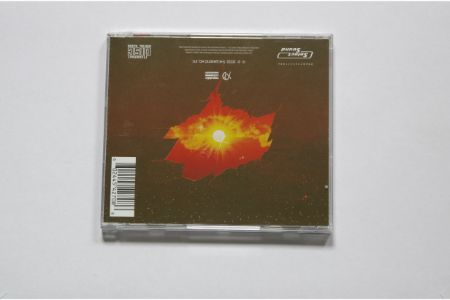album: (100, 31, 333, 239)
